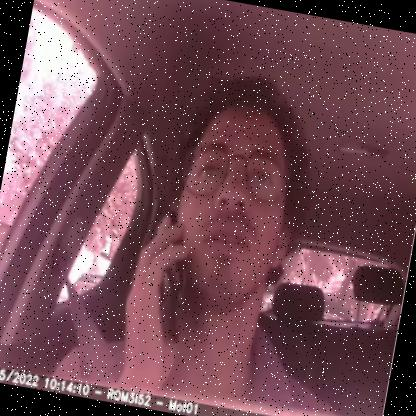phone: (130, 198, 206, 354)
